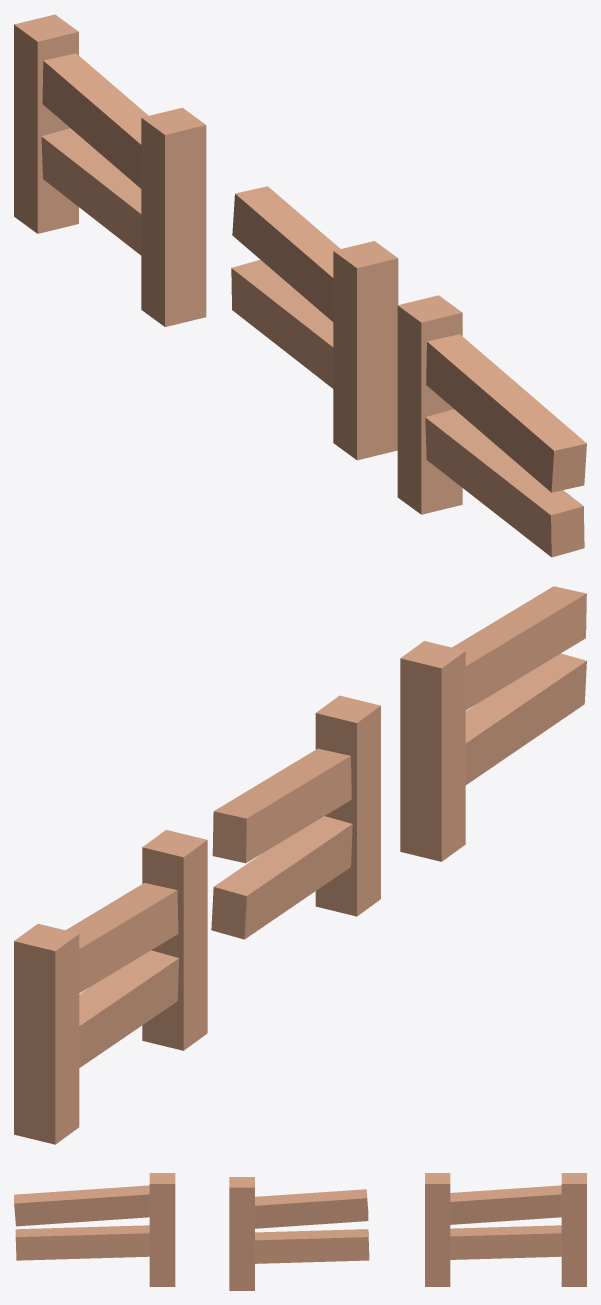
The model's file is Fences.fbx.
3 views of the same model, one above another, from view 1: azimuth 30°, elevation 25°; view 2: azimuth 150°, elevation 25°; view 3: azimuth 270°, elevation 25° (orthographic). The views are drawn at different scales.
Visible parts, largest first — view 1: Cube.001, cube.019, Cube.013; view 2: Cube.001, cube.019, Cube.013; view 3: Cube.001, cube.019, Cube.013.
Part boxes in pixels (x1,y1,x2,y2): Cube.001: (14,14,206,326); cube.019: (397,295,586,557); Cube.013: (231,186,398,460); Cube.001: (14,830,207,1144); cube.019: (400,586,586,861); Cube.013: (211,695,380,939); Cube.001: (425,1173,586,1286); cube.019: (14,1173,175,1286); Cube.013: (229,1177,369,1290).
Size of the model in its own units: 549 by 1998 by 9942.
